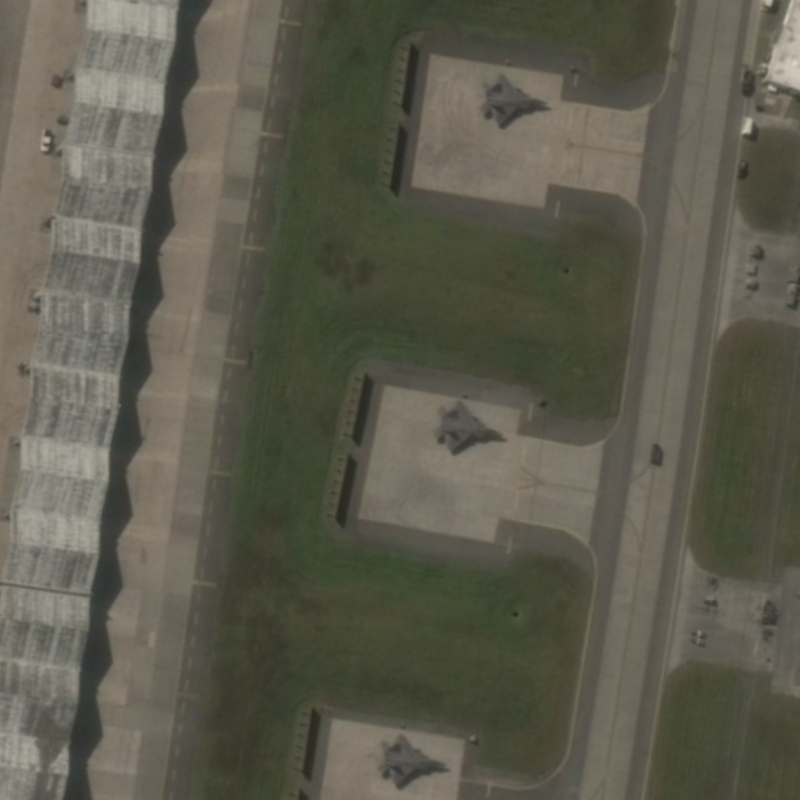A15: (371, 727, 454, 794), (426, 395, 508, 461), (473, 70, 556, 129)
